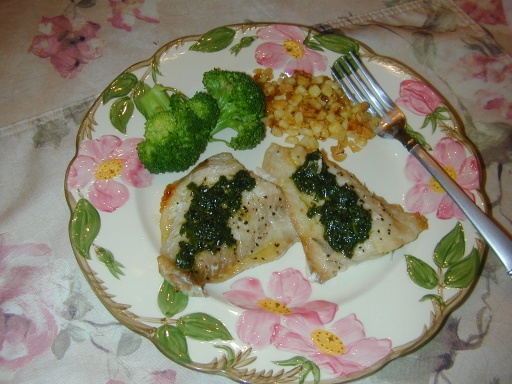background: (108, 40, 342, 178)
